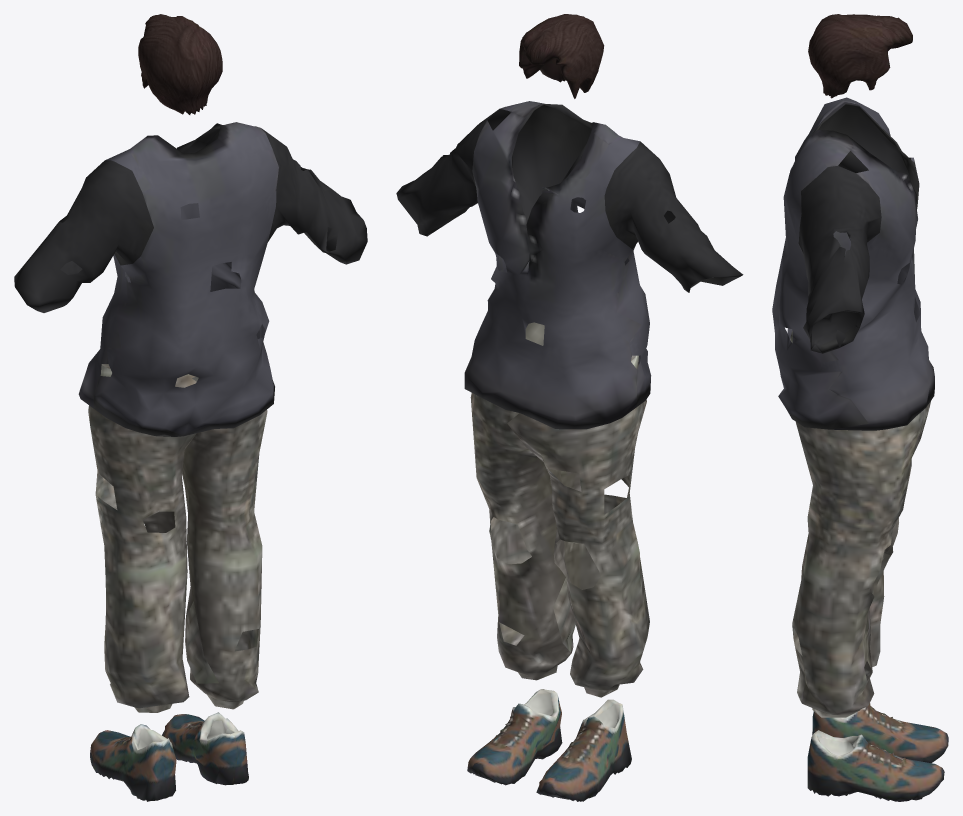
The model's file is POOR CLOTH .fbx.
The picture shows the model from 3 angles, left to right: view 1: azimuth 30°, elevation 25°; view 2: azimuth 150°, elevation 25°; view 3: azimuth 270°, elevation 25°; orthographic projection.
Visible parts, largest first — view 1: POOR CLOTH; view 2: POOR CLOTH; view 3: POOR CLOTH.
Boxes of the visible parts, x1=… form: POOR CLOTH: x1=14, y1=14, x2=367, y2=801; POOR CLOTH: x1=396, y1=14, x2=743, y2=801; POOR CLOTH: x1=772, y1=14, x2=948, y2=801.
Size of the model in its own units: 66.9 by 144 by 30.51.
Materials: 1 (1 with a texture image).
